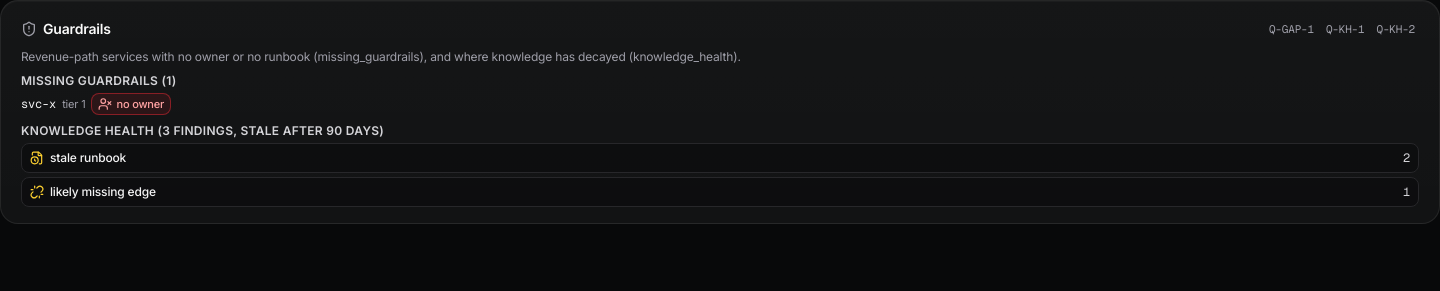
Scenario: Guardrails › reads missing guardrails and knowledge health for the tenant and groups findings by kind
This screenshot has width=1440, height=291.
Expected: the heading "Missing guardrails (1)" is shown, [21,73,176,88]
Expected: the text "no owner" is shown, [92,93,171,115]
Step 1. Click the button "stale runbook 2" → click(88, 158), box [22,144,1418,172]
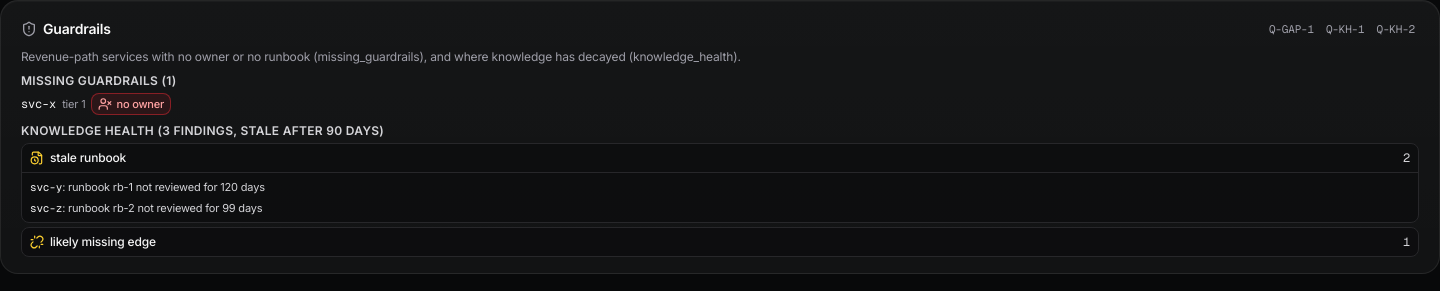
Result: the list item "svc-y: runbook rb-1 not reviewed for 120 days" is shown at [30,180,265,194]
